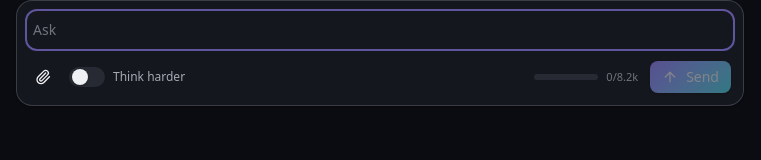
Test case: a file alone can be sent, and chips can be removed
Later steps or results of the test are not shown.
Click the button named "Attach files": click(43, 77) [29,63,57,91]
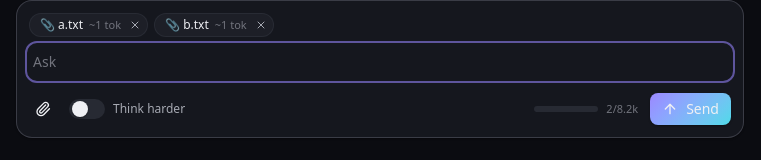
Expected: the text "📎 a.txt" is shown, [40,16,83,34]
Click the button named "Remove a.txt": click(135, 25) [127,17,143,33]
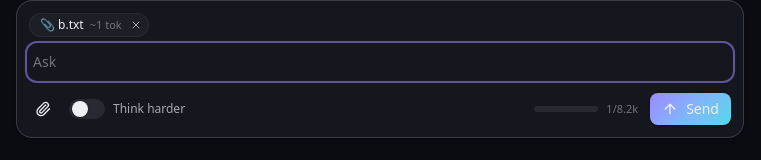
Expected: the text "a.txt" is gone
